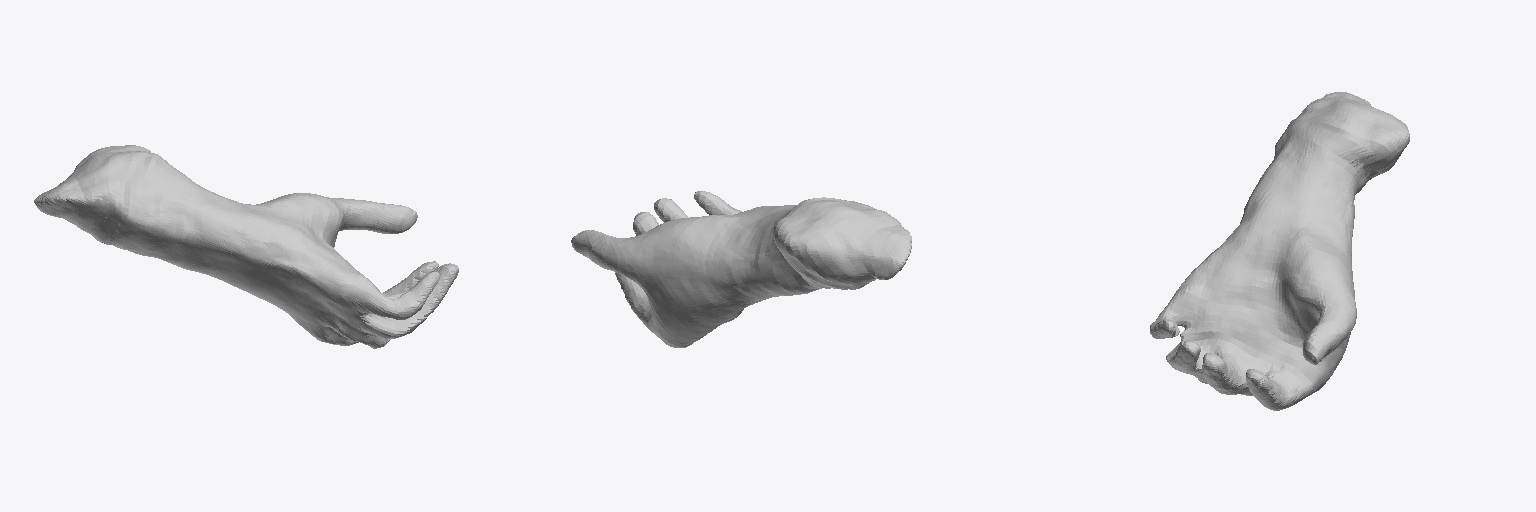
The model's file is fg-00329-geo-color.obj.
3 views of the same model, side by side, from view 1: azimuth 30°, elevation 25°; view 2: azimuth 150°, elevation 25°; view 3: azimuth 270°, elevation 25° (orthographic).
Bounding box in the file's own units: 0.4352 × 0.2315 × 0.2752.